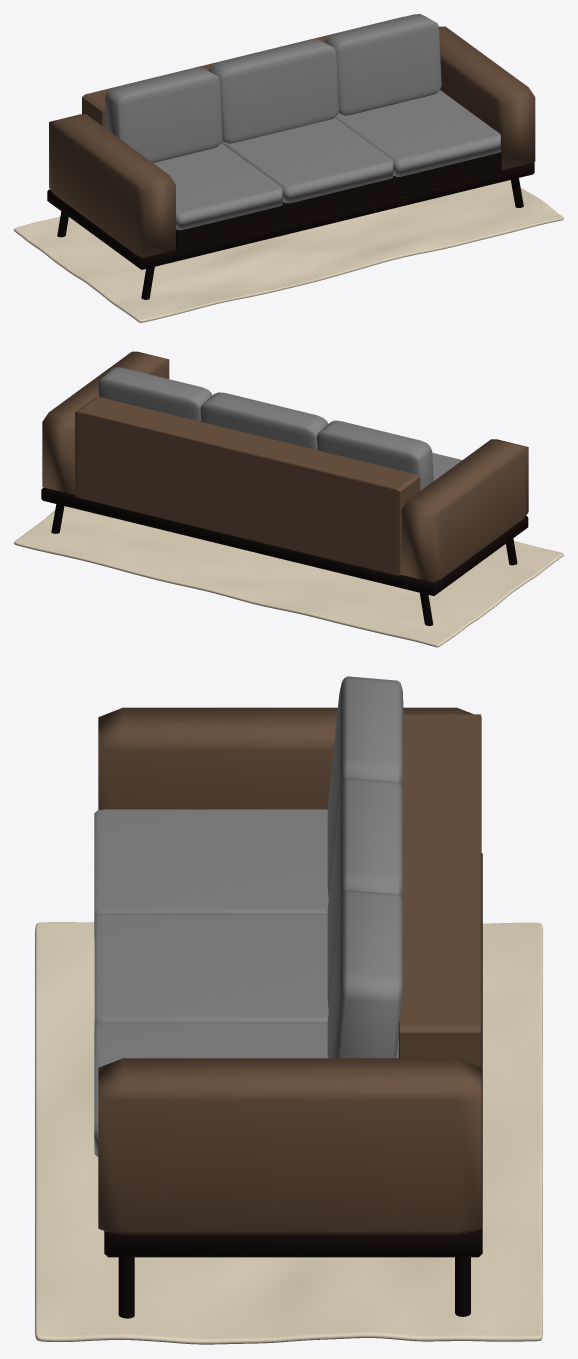
The model's file is chair.obj.
3 renders of one model, top to bottom at view 1: azimuth 30°, elevation 25°; view 2: azimuth 150°, elevation 25°; view 3: azimuth 270°, elevation 25°, orthographic. The views are drawn at different scales.
Visible parts, largest first — view 1: Rug, Cube, Cube.003, Cube.009, Cube.008, Cube.007, Cube.005, Cube.006, Cube.001, Cube.002, Cube.004, Cylinder; view 2: Cube.004, Rug, Cube.003, Cube, Cube.001, Cube.009, Cube.007, Cube.008, Cylinder, Cube.002; view 3: Rug, Cube.001, Cube.004, Cube.005, Cube.002, Cube.003, Cube.008, Cube, Cube.006, Cube.009, Cube.007, Cylinder.001.
Part boxes in pixels (left/top/right/bottom): Rug: left=14, top=180, right=563, bottom=322; Cube: left=47, top=152, right=534, bottom=269; Cube.003: left=49, top=114, right=175, bottom=257; Cube.009: left=208, top=39, right=339, bottom=143; Cube.008: left=324, top=14, right=441, bottom=115; Cube.007: left=104, top=67, right=222, bottom=162; Cube.005: left=222, top=117, right=393, bottom=203; Cube.006: left=335, top=90, right=500, bottom=176; Cube.001: left=439, top=26, right=535, bottom=169; Cube.002: left=153, top=143, right=282, bottom=230; Cube.004: left=82, top=16, right=403, bottom=128; Cylinder: left=57, top=211, right=154, bottom=299; Cube.004: left=75, top=396, right=420, bottom=575; Rug: left=14, top=506, right=563, bottom=647; Cube.003: left=401, top=439, right=528, bottom=582; Cube: left=41, top=487, right=528, bottom=595; Cube.001: left=42, top=351, right=169, bottom=494; Cube.009: left=200, top=392, right=328, bottom=449; Cube.007: left=316, top=420, right=433, bottom=490; Cube.008: left=98, top=367, right=212, bottom=421; Cylinder: left=420, top=538, right=517, bottom=625; Cube.002: left=432, top=453, right=462, bottom=480; Rug: left=35, top=922, right=542, bottom=1344; Cube.001: left=98, top=1058, right=481, bottom=1234; Cube.004: left=399, top=714, right=481, bottom=1067; Cube.005: left=94, top=913, right=398, bottom=1048; Cube.002: left=94, top=809, right=328, bottom=940; Cube.003: left=98, top=707, right=473, bottom=810; Cube.008: left=327, top=890, right=403, bottom=1058; Cube: left=104, top=853, right=482, bottom=1257; Cube.006: left=94, top=1022, right=398, bottom=1156; Cube.009: left=327, top=777, right=403, bottom=1009; Cube.007: left=327, top=676, right=403, bottom=898; Cylinder.001: left=118, top=1257, right=470, bottom=1318.
Bounding box in the file's own units: 12.42 × 4.42 × 6.42.
